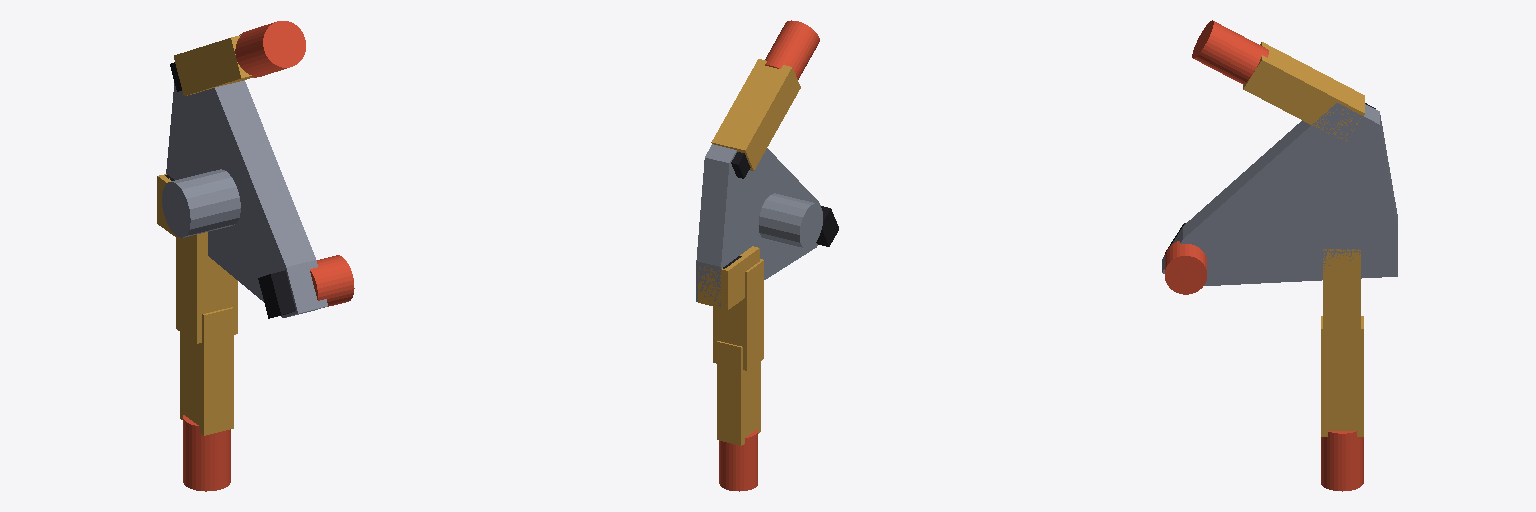
URDF robot description (g0001_c01):
<robot name="g0001_c01">
  <link name="palm">
    <visual name="palm_palm1">
      <origin xyz="0 0 0" rpy="0 0 0" />
      <geometry>
        <mesh filename="palm_palm1.obj" />
      </geometry>
      <material name="palm_palm1_mat">
        <color rgba="0.55 0.57 0.62 1" />
      </material>
    </visual>
    <collision>
      <origin xyz="0 0 0" rpy="0 0 0" />
      <geometry>
        <mesh filename="palm_palm1.obj" />
      </geometry>
    </collision>
    <visual name="palm_mount2">
      <origin xyz="0 0 0" rpy="0 0 0" />
      <geometry>
        <mesh filename="palm_mount2.obj" />
      </geometry>
      <material name="palm_mount2_mat">
        <color rgba="0.55 0.57 0.62 1" />
      </material>
    </visual>
    <collision>
      <origin xyz="0 0 0" rpy="0 0 0" />
      <geometry>
        <mesh filename="palm_mount2.obj" />
      </geometry>
    </collision>
    <visual name="palm_motor3">
      <origin xyz="-0.007 -0.08 -0.04" rpy="1.06057524e-16 -1.04719755 1.57079633" />
      <geometry>
        <box size="0.029 0.034 0.02" />
      </geometry>
      <material name="palm_motor3_mat">
        <color rgba="0.15 0.15 0.17 1" />
      </material>
    </visual>
    <collision>
      <origin xyz="-0.007 -0.08 -0.04" rpy="1.06057524e-16 -1.04719755 1.57079633" />
      <geometry>
        <box size="0.029 0.034 0.02" />
      </geometry>
    </collision>
    <visual name="palm_motor4">
      <origin xyz="-0.0045 0.0665 -0.0325" rpy="1.57079633 1.2246468e-16 -1.57079633" />
      <geometry>
        <box size="0.029 0.034 0.02" />
      </geometry>
      <material name="palm_motor4_mat">
        <color rgba="0.15 0.15 0.17 1" />
      </material>
    </visual>
    <collision>
      <origin xyz="-0.0045 0.0665 -0.0325" rpy="1.57079633 1.2246468e-16 -1.57079633" />
      <geometry>
        <box size="0.029 0.034 0.02" />
      </geometry>
    </collision>
    <visual name="palm_motor5">
      <origin xyz="-0.0045 0.0464951905 0.07625" rpy="-0.523598776 -5.30287619e-17 3.061617e-17" />
      <geometry>
        <box size="0.029 0.034 0.02" />
      </geometry>
      <material name="palm_motor5_mat">
        <color rgba="0.15 0.15 0.17 1" />
      </material>
    </visual>
    <collision>
      <origin xyz="-0.0045 0.0464951905 0.07625" rpy="-0.523598776 -5.30287619e-17 3.061617e-17" />
      <geometry>
        <box size="0.029 0.034 0.02" />
      </geometry>
    </collision>
    <inertial>
      <origin xyz="0 0.0096443728 0.000914225338" rpy="1.57079633 -0.603009595 1.57079633" />
      <mass value="0.729680719" />
      <inertia ixx="0.000779023087" ixy="0" ixz="0" iyy="0.00175686969" iyz="0" izz="0.00246584343" />
    </inertial>
  </link>
  <link name="f0_link0">
    <visual name="f0_link0_link1">
      <origin xyz="0.019 0 -6.9388939e-18" rpy="-1.57079633 -0 -1.57079633" />
      <geometry>
        <cylinder radius="0.0165" length="0.029" />
      </geometry>
      <material name="f0_link0_link1_mat">
        <color rgba="0.85 0.35 0.25 1" />
      </material>
    </visual>
    <collision>
      <origin xyz="0.019 0 -6.9388939e-18" rpy="-1.57079633 -0 -1.57079633" />
      <geometry>
        <cylinder radius="0.0165" length="0.029" />
      </geometry>
    </collision>
    <inertial>
      <origin xyz="0.019 0 0" rpy="0 0 0" />
      <mass value="0.0763354" />
      <inertia ixx="9.49466441e-06" ixy="0" ixz="0" iyy="2.24143997e-05" iyz="0" izz="2.24143997e-05" />
    </inertial>
  </link>
  <link name="f1_link0">
    <visual name="f1_link0_link1">
      <origin xyz="-0.00625 0 -0.0165" rpy="0 -0 0" />
      <geometry>
        <box size="0.0365 0.029 0.053" />
      </geometry>
      <material name="f1_link0_link1_mat">
        <color rgba="0.80 0.62 0.30 1" />
      </material>
    </visual>
    <collision>
      <origin xyz="-0.00625 0 -0.0165" rpy="0 -0 0" />
      <geometry>
        <box size="0.0365 0.029 0.053" />
      </geometry>
    </collision>
    <inertial>
      <origin xyz="-0.00625 0 -0.0165" rpy="0 0 0" />
      <mass value="0.098175875" />
      <inertia ixx="2.98618286e-05" ixy="0" ixz="0" iyy="3.38809035e-05" iyz="0" izz="1.778006e-05" />
    </inertial>
  </link>
  <link name="f1_link1">
    <visual name="f1_link1_link1">
      <origin xyz="0.03375 0 -6.9388939e-18" rpy="0 -0 0" />
      <geometry>
        <box size="0.0915 0.033 0.029" />
      </geometry>
      <material name="f1_link1_link1_mat">
        <color rgba="0.80 0.62 0.30 1" />
      </material>
    </visual>
    <collision>
      <origin xyz="0.03375 0 -6.9388939e-18" rpy="0 -0 0" />
      <geometry>
        <box size="0.0915 0.033 0.029" />
      </geometry>
    </collision>
    <inertial>
      <origin xyz="0.03375 0 0" rpy="0 0 0" />
      <mass value="0.153239625" />
      <inertia ixx="2.46460397e-05" ixy="0" ixz="0" iyy="0.000117652915" iyz="0" izz="0.000120819867" />
    </inertial>
  </link>
  <link name="f1_link2">
    <visual name="f1_link2_link1">
      <origin xyz="0.03375 0 0" rpy="0 -0 0" />
      <geometry>
        <box size="0.0915 0.024 0.033" />
      </geometry>
      <material name="f1_link2_link1_mat">
        <color rgba="0.80 0.62 0.30 1" />
      </material>
    </visual>
    <collision>
      <origin xyz="0.03375 0 0" rpy="0 -0 0" />
      <geometry>
        <box size="0.0915 0.024 0.033" />
      </geometry>
    </collision>
    <inertial>
      <origin xyz="0.03375 0 0" rpy="0 0 0" />
      <mass value="0.126819" />
      <inertia ixx="1.75961363e-05" ixy="0" ixz="0" iyy="9.99888553e-05" iyz="0" izz="9.45673431e-05" />
    </inertial>
  </link>
  <link name="f1_link3">
    <visual name="f1_link3_link1">
      <origin xyz="0.029 0 0" rpy="-1.57079633 -0 -1.57079633" />
      <geometry>
        <cylinder radius="0.0165" length="0.049" />
      </geometry>
      <material name="f1_link3_link1_mat">
        <color rgba="0.85 0.35 0.25 1" />
      </material>
    </visual>
    <collision>
      <origin xyz="0.029 0 0" rpy="-1.57079633 -0 -1.57079633" />
      <geometry>
        <cylinder radius="0.0165" length="0.049" />
      </geometry>
    </collision>
    <inertial>
      <origin xyz="0.029 0 0" rpy="0 0 0" />
      <mass value="0.106270851" />
      <inertia ixx="1.35696277e-05" ixy="0" ixz="0" iyy="5.30015704e-05" iyz="0" izz="5.30015704e-05" />
    </inertial>
  </link>
  <link name="f2_link0">
    <visual name="f2_link0_link1">
      <origin xyz="0.03375 0 0" rpy="0 7.03853194e-17 0" />
      <geometry>
        <box size="0.0915 0.033 0.029" />
      </geometry>
      <material name="f2_link0_link1_mat">
        <color rgba="0.80 0.62 0.30 1" />
      </material>
    </visual>
    <collision>
      <origin xyz="0.03375 0 0" rpy="0 7.03853194e-17 0" />
      <geometry>
        <box size="0.0915 0.033 0.029" />
      </geometry>
    </collision>
    <inertial>
      <origin xyz="0.03375 0 0" rpy="0 0 0" />
      <mass value="0.153239625" />
      <inertia ixx="2.46460397e-05" ixy="0" ixz="0" iyy="0.000117652915" iyz="0" izz="0.000120819867" />
    </inertial>
  </link>
  <link name="f2_link1">
    <visual name="f2_link1_link1">
      <origin xyz="0.029 0 -6.9388939e-18" rpy="-1.57079633 -0 -1.57079633" />
      <geometry>
        <cylinder radius="0.0165" length="0.049" />
      </geometry>
      <material name="f2_link1_link1_mat">
        <color rgba="0.85 0.35 0.25 1" />
      </material>
    </visual>
    <collision>
      <origin xyz="0.029 0 -6.9388939e-18" rpy="-1.57079633 -0 -1.57079633" />
      <geometry>
        <cylinder radius="0.0165" length="0.049" />
      </geometry>
    </collision>
    <inertial>
      <origin xyz="0.029 0 0" rpy="0 0 0" />
      <mass value="0.106270851" />
      <inertia ixx="1.35696277e-05" ixy="0" ixz="0" iyy="5.30015704e-05" iyz="0" izz="5.30015704e-05" />
    </inertial>
  </link>
  <joint name="f0_j0" type="revolute">
    <parent link="palm" />
    <child link="f0_link0" />
    <origin xyz="0.0005 -0.08 -0.04" rpy="1.04719755 5.30287619e-17 -3.061617e-17" />
    <axis xyz="0 1 6.123234e-17" />
    <limit effort="0.5" lower="-0.523598776" upper="0.523598776" velocity="5" />
    <dynamics damping="0.0775033" friction="0" />
  </joint>
  <joint name="f1_j0" type="revolute">
    <parent link="palm" />
    <child link="f1_link0" />
    <origin xyz="-0.0045 0.04 -0.04" rpy="1.57079633 1.57079633 0" />
    <axis xyz="0 0 1" />
    <limit effort="0.5" lower="-0.523598776" upper="1.57079633" velocity="5" />
    <dynamics damping="0.0775033" friction="0" />
  </joint>
  <joint name="f1_j1" type="revolute">
    <parent link="f1_link0" />
    <child link="f1_link1" />
    <origin xyz="0 0 0" rpy="0 0 0" />
    <axis xyz="0 1 6.123234e-17" />
    <limit effort="0.5" lower="-0.523598776" upper="0.523598776" velocity="5" />
    <dynamics damping="0.0775033" friction="0" />
  </joint>
  <joint name="f1_j2" type="revolute">
    <parent link="f1_link1" />
    <child link="f1_link2" />
    <origin xyz="0.07 0 0" rpy="0 0 0" />
    <axis xyz="0 0 1" />
    <limit effort="0.5" lower="-0.523598776" upper="1.57079633" velocity="5" />
    <dynamics damping="0.0775033" friction="0" />
  </joint>
  <joint name="f1_j3" type="revolute">
    <parent link="f1_link2" />
    <child link="f1_link3" />
    <origin xyz="0.07 0 0" rpy="0 0 0" />
    <axis xyz="0 0 1" />
    <limit effort="0.5" lower="-0.523598776" upper="1.57079633" velocity="5" />
    <dynamics damping="0.0775033" friction="0" />
  </joint>
  <joint name="f2_j0" type="revolute">
    <parent link="palm" />
    <child link="f2_link0" />
    <origin xyz="-0.0045 0.04 0.08" rpy="-0 -0.523598776 -1.57079633" />
    <axis xyz="-0 -1 -6.123234e-17" />
    <limit effort="0.5" lower="-0.523598776" upper="0.523598776" velocity="5" />
    <dynamics damping="0.0775033" friction="0" />
  </joint>
  <joint name="f2_j1" type="revolute">
    <parent link="f2_link0" />
    <child link="f2_link1" />
    <origin xyz="0.07 0 0" rpy="0 0 0" />
    <axis xyz="0 0 1" />
    <limit effort="0.5" lower="-0.523598776" upper="1.57079633" velocity="5" />
    <dynamics damping="0.0775033" friction="0" />
  </joint>
</robot>

--- What the picture shows (computed from the rendered views, not written in the file) ---
3 views of the same robot in one strip: view 1: azimuth 30°, elevation 25°; view 2: azimuth 150°, elevation 25°; view 3: azimuth 270°, elevation 25° (orthographic).
Robot: g0001_c01 — 8 links, 7 joints (7 revolute); root link palm; default pose: all joints at 0.
Visible links, largest first — view 1: palm, f1_link2, f1_link1, f2_link1, f1_link3, f2_link0, f0_link0; view 2: palm, f2_link0, f1_link2, f1_link1, f1_link3, f2_link1, f1_link0; view 3: palm, f2_link0, f1_link1, f1_link2, f2_link1, f1_link3, f0_link0.
Link boxes in pixels (x1,y1,x2,y2): palm: (162,62,327,318); f1_link2: (180,307,233,435); f1_link1: (176,232,237,343); f2_link1: (235,21,305,77); f1_link3: (183,415,230,491); f2_link0: (174,35,253,95); f0_link0: (310,255,354,307); palm: (696,144,838,306); f2_link0: (711,59,800,170); f1_link2: (717,341,760,445); f1_link1: (713,259,763,370); f1_link3: (719,429,757,491); f2_link1: (765,20,819,79); f1_link0: (698,246,759,309); palm: (1162,103,1397,285); f2_link0: (1243,42,1364,141); f1_link1: (1323,249,1360,356); f1_link2: (1321,316,1363,436); f2_link1: (1192,20,1268,84); f1_link3: (1321,431,1363,491); f0_link0: (1165,241,1206,294).
Size in the robot's own frame: 0.086 by 0.1816 by 0.3895 metres.
2 mesh visuals loaded from 2 distinct referenced files (2 OBJ).
